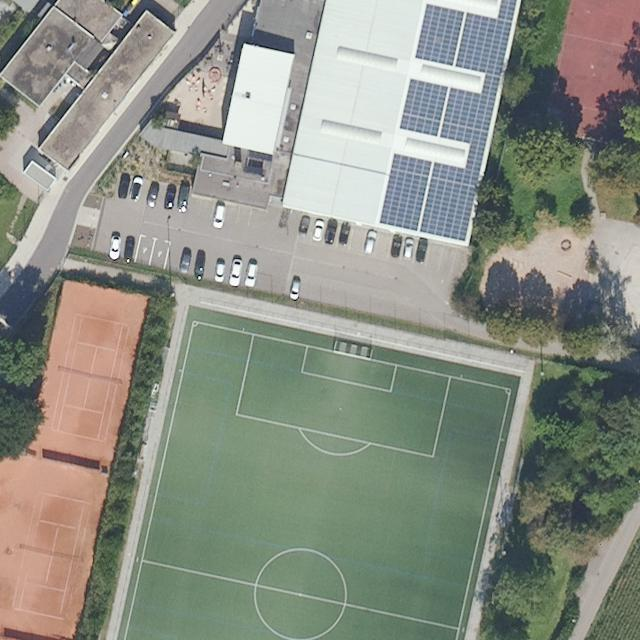PV: (376, 1, 518, 243)
